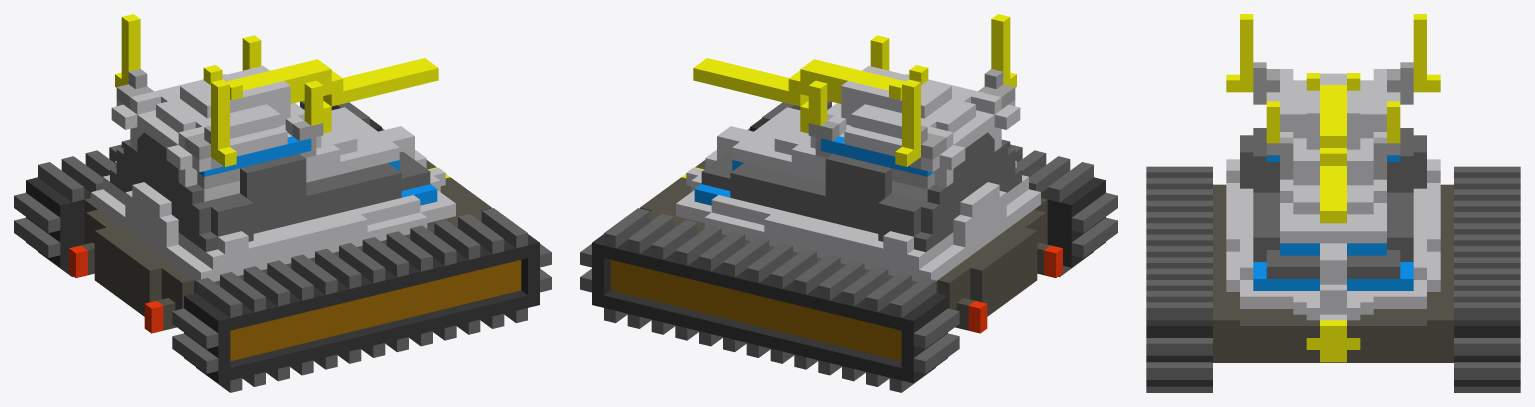
File: tank1.gltf
3 renders of one model, left to right at view 1: azimuth 30°, elevation 25°; view 2: azimuth 150°, elevation 25°; view 3: azimuth 270°, elevation 25°, orthographic. The views are drawn at different scales.
Parts seen in each view (by area): view 1: Layer.2; view 2: Layer.2; view 3: Layer.2.
Part boxes in pixels (x1,y1,x2,y2): Layer.2: (14,14,551,392); Layer.2: (580,14,1117,392); Layer.2: (1146,14,1520,392).
Size of the model in its own units: 29 by 21 by 28.
Materials: 1 (1 with a texture image).
